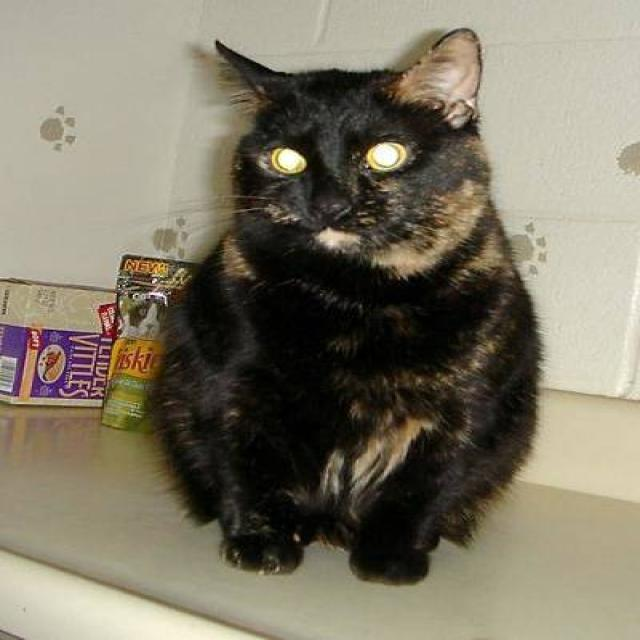cat: (147, 26, 544, 586)
